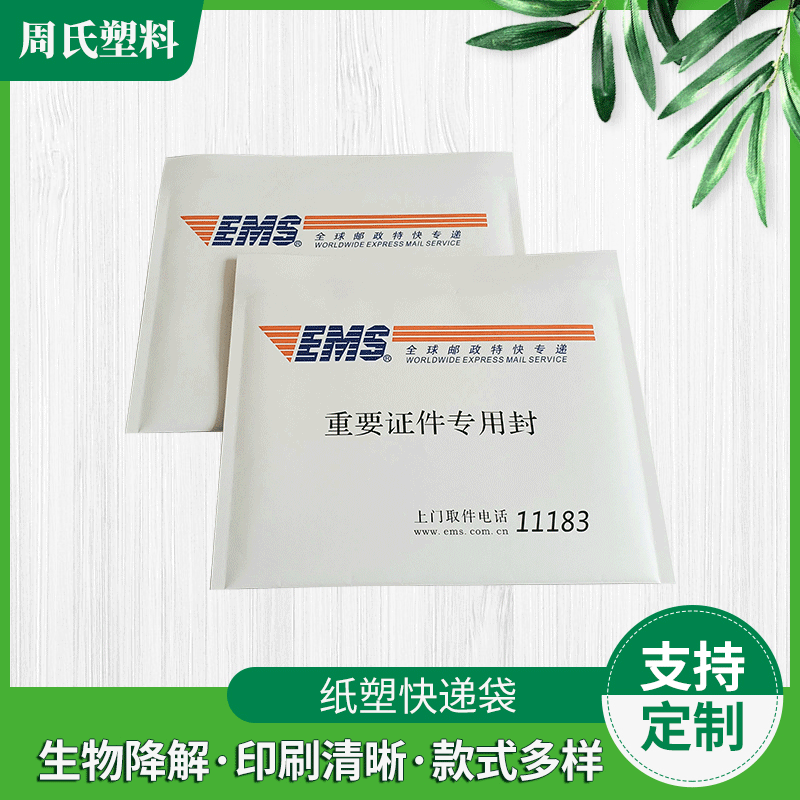塑料袋: (128, 156, 672, 588)
